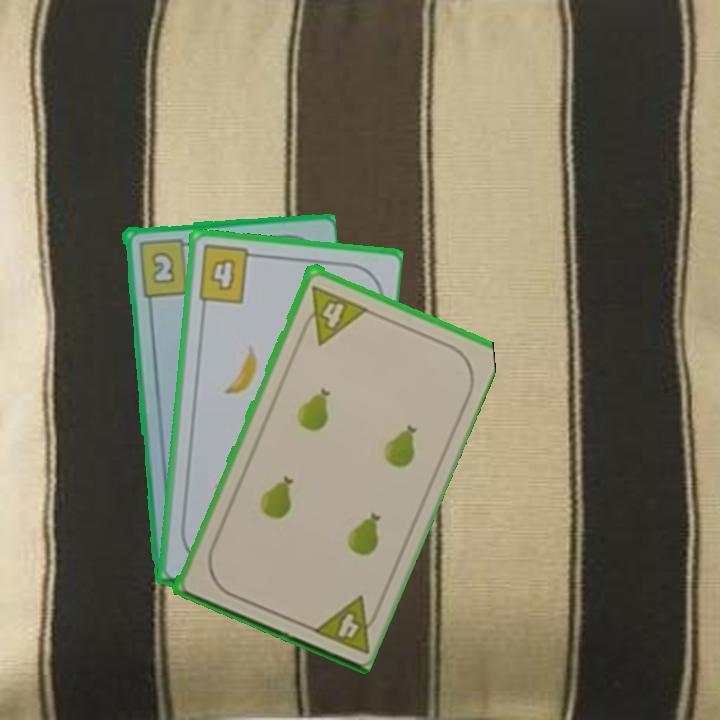2b: (134, 234, 196, 299)
4b: (194, 242, 261, 307)
4p: (307, 591, 385, 657), (296, 281, 369, 347)
